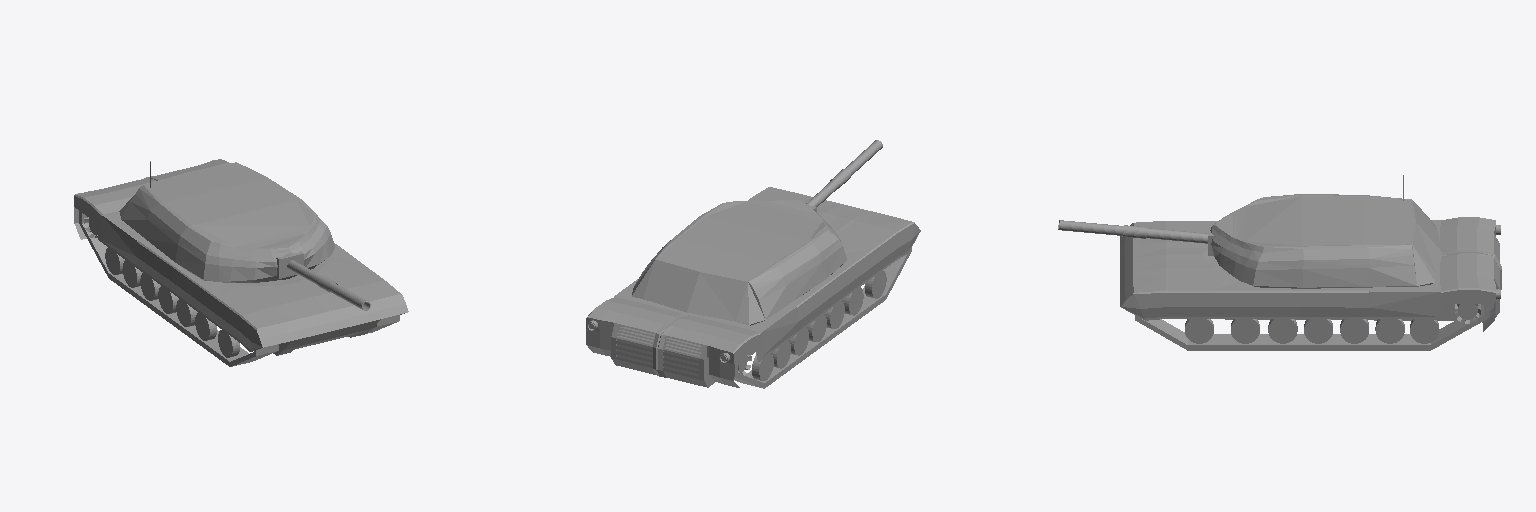
Rendered from TriTank.obj.
The picture shows the model from 3 angles: view 1: azimuth 30°, elevation 25°; view 2: azimuth 150°, elevation 25°; view 3: azimuth 270°, elevation 25°; orthographic projection.
Parts seen in each view (by area): view 1: Plane.001_Plane.000, Plane.000_Plane.002, Cube.004, Cylinder; view 2: Plane.001_Plane.000, Plane.000_Plane.002, Cube.004, Cylinder; view 3: Plane.001_Plane.000, Plane.000_Plane.002, Cube.003, Cylinder, Cylinder.008, Cylinder.005, Cylinder.006, Cylinder.009, Cylinder.010, Cylinder.007, Cylinder.004.
Part boxes in pixels (x1,y1,x2,y2): Plane.001_Plane.000: (74, 159, 408, 355); Plane.000_Plane.002: (119, 161, 334, 282); Cube.004: (79, 211, 278, 366); Cylinder: (287, 260, 370, 310); Plane.001_Plane.000: (586, 187, 920, 387); Plane.000_Plane.002: (632, 200, 846, 325); Cube.004: (734, 248, 911, 388); Cylinder: (806, 140, 882, 206); Plane.001_Plane.000: (1120, 217, 1501, 331); Plane.000_Plane.002: (1210, 175, 1442, 288); Cube.003: (1135, 304, 1489, 350); Cylinder: (1058, 220, 1207, 243); Cylinder.008: (1268, 319, 1297, 343); Cylinder.005: (1375, 319, 1404, 343); Cylinder.006: (1340, 319, 1368, 343); Cylinder.009: (1231, 319, 1259, 343); Cylinder.010: (1185, 319, 1213, 343); Cylinder.007: (1304, 319, 1332, 343); Cylinder.004: (1410, 319, 1438, 343).
Bounding box in the file's own units: 9.86 × 7.54 × 25.24.